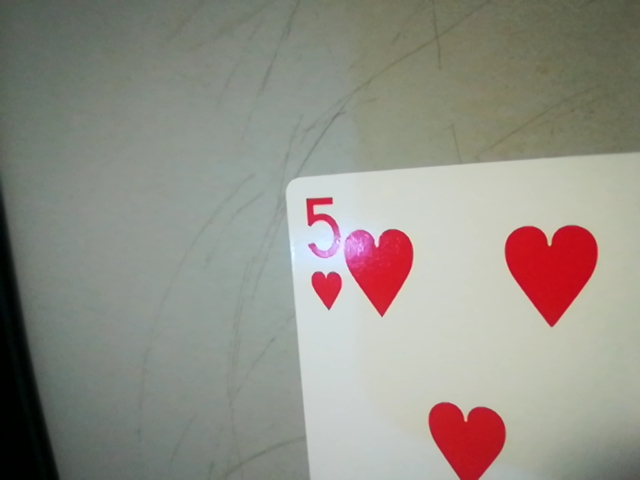hx 5: (295, 189, 352, 313)
